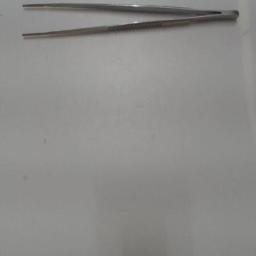DeBakey Dissector: (18, 1, 252, 43)
